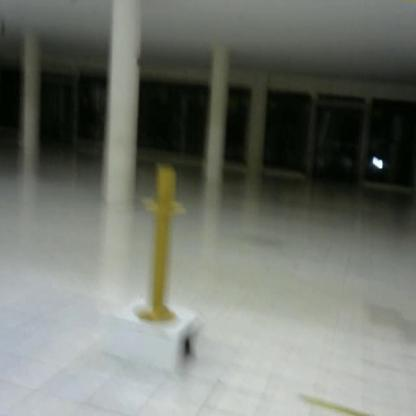pole: (135, 162, 191, 326)
